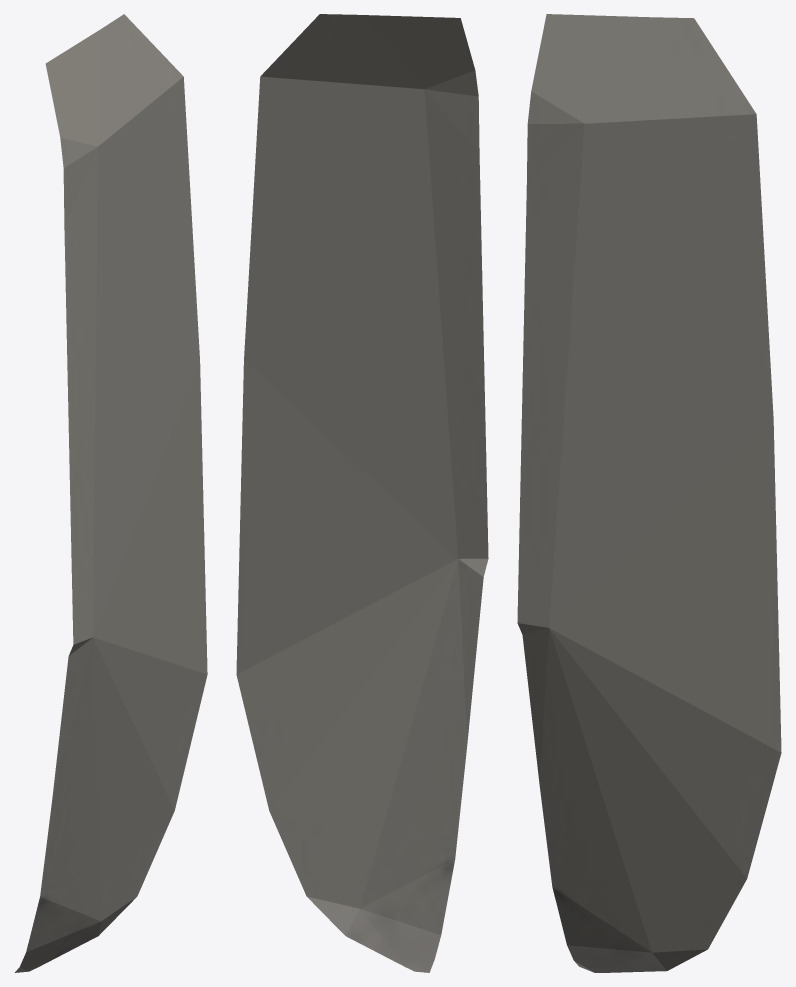
3 views of the same model, side by side, from view 1: azimuth 30°, elevation 25°; view 2: azimuth 150°, elevation 25°; view 3: azimuth 330°, elevation 25° (orthographic). The views are drawn at different scales.
Size of the model in its own units: 0.1371 by 0.6337 by 0.0724.
1 material, 1 textured.
